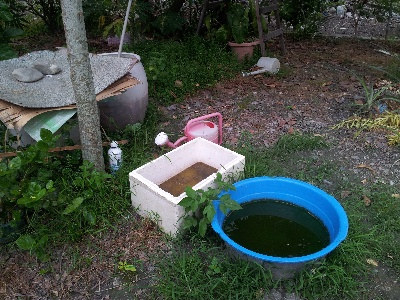bowl: (211, 174, 351, 280), (93, 51, 149, 133)
styrofoam: (126, 135, 248, 242)
